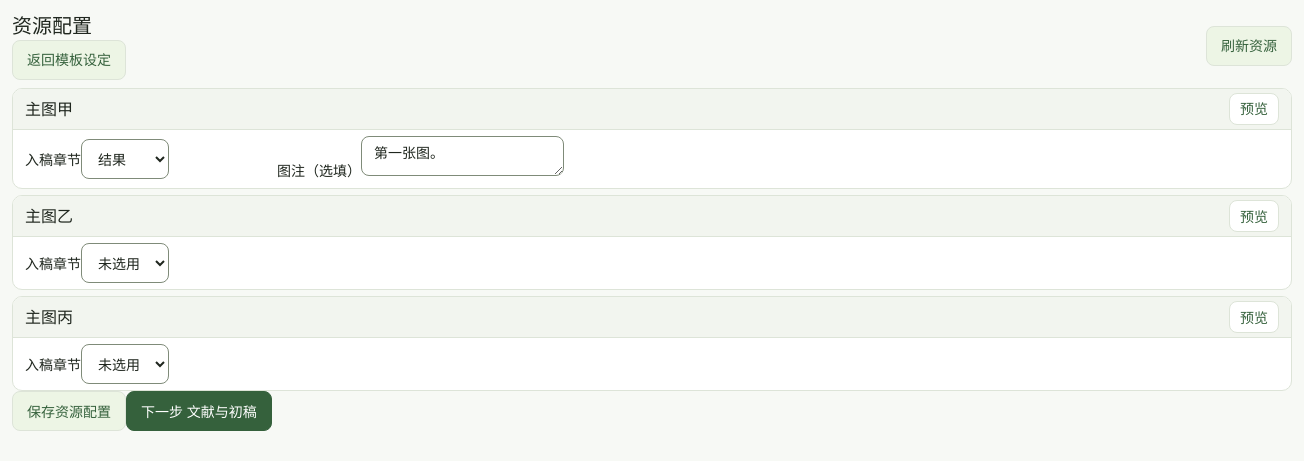
Test: sorts and saves sci figure cards with or without a caption
Later steps or results of the test are not shown.
Check: the button with aria-label "预览 主图乙" is shown, box [1229,200,1279,232]
Click the button "刷新资源" at coordinates (1249, 46), box [1206,26,1292,66]
Select "讨论" in the dropdown named "入稿章节 主图丙" at coordinates (125, 364), box [81,344,169,384]
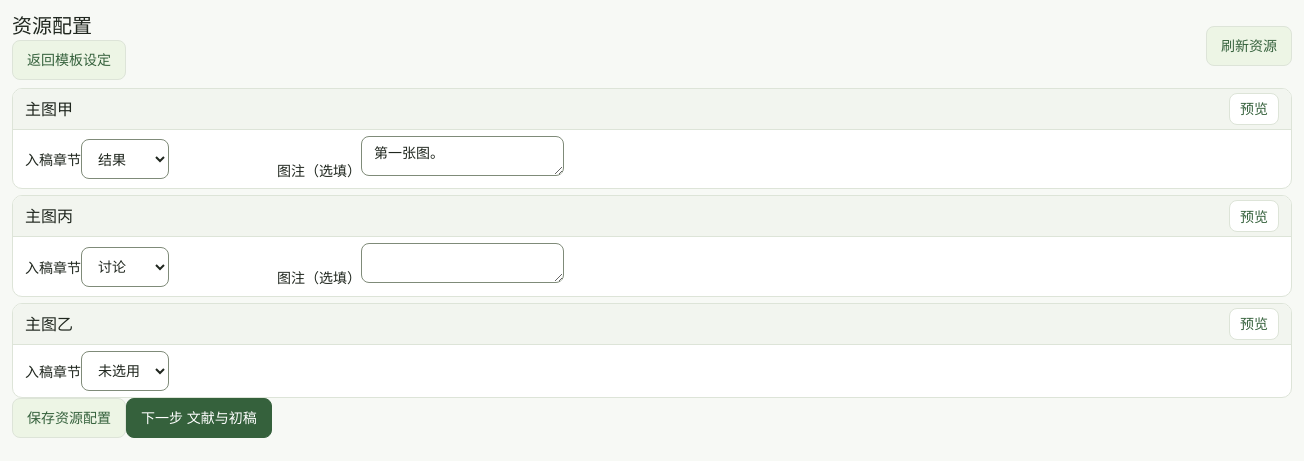
Type "第三张图。" into the text box named "图注 主图丙" at coordinates (462, 263), box [361,243,564,283]
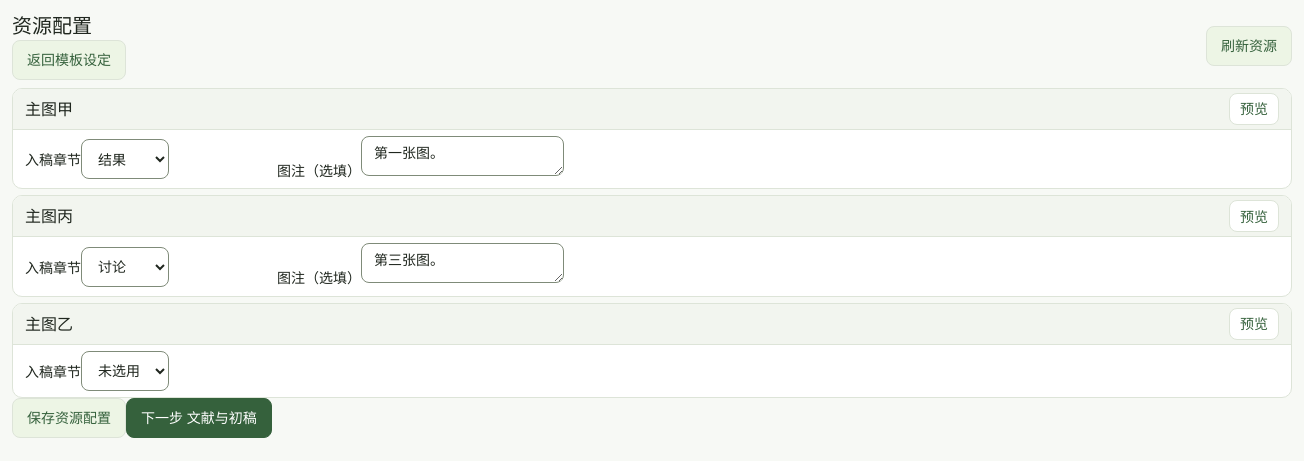
Select "结果" in the dropdown named "入稿章节 主图乙" at coordinates (125, 371), box [81,351,169,391]
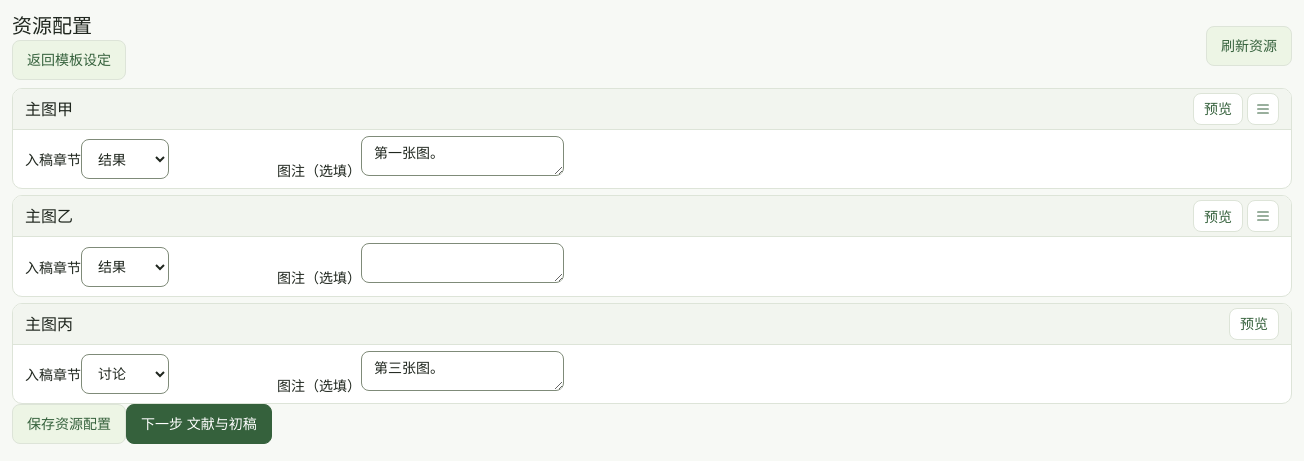
Check: the button "保存资源配置" is enabled, box [12,404,126,444]
Check: the text "图注（选填）" is shown 3 times, box [277,136,564,180]; [277,243,564,287]; [277,351,564,395]
